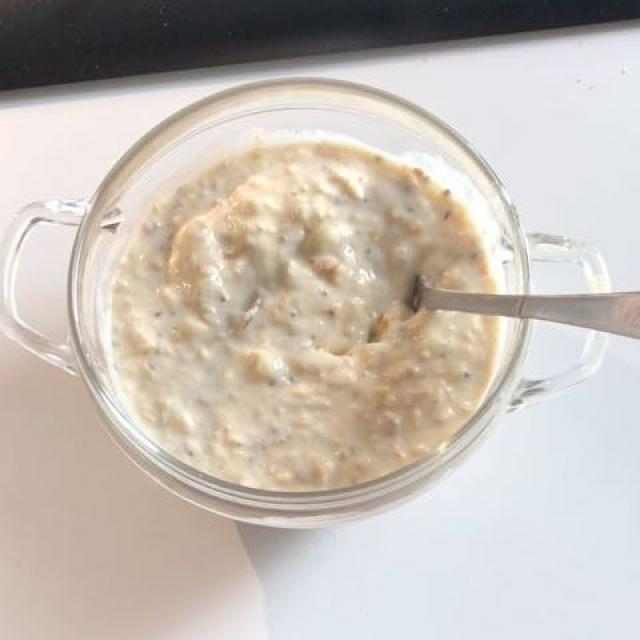birchermuesli-prepared-no-sugar-added: (114, 143, 497, 486)
